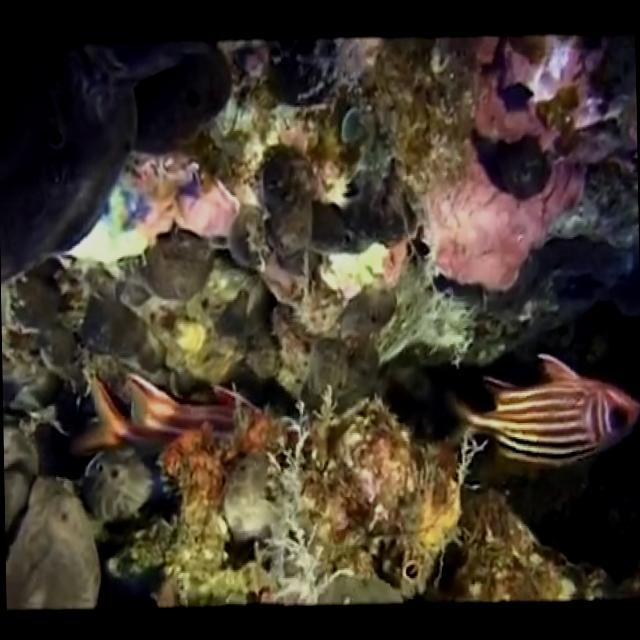Asker Baligi: (444, 354, 640, 470)
